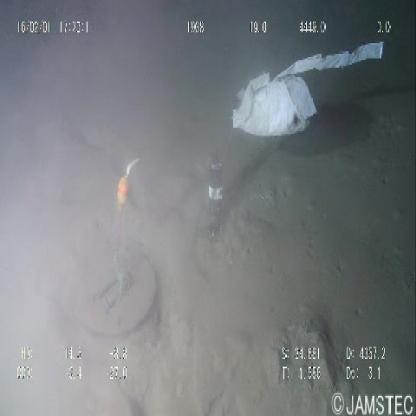Rov: (77, 145, 226, 339)
Rác: (229, 34, 386, 142)
